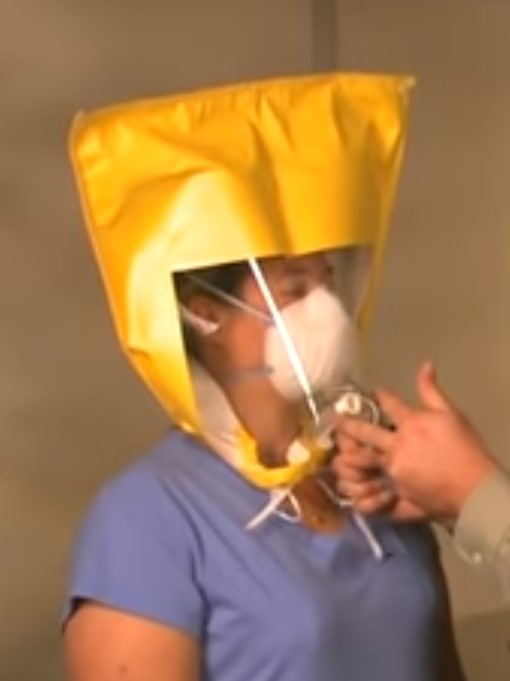face_with_mask: (170, 245, 367, 413)
